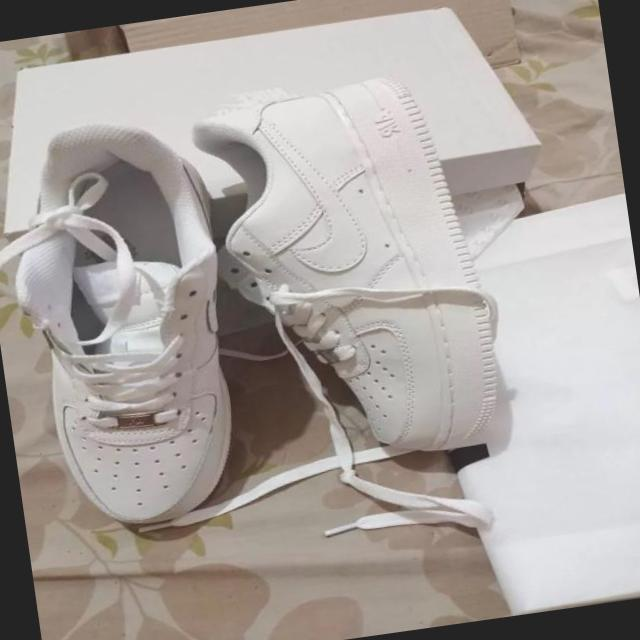nike_fake_airforce: (192, 62, 520, 478), (0, 106, 257, 541)
